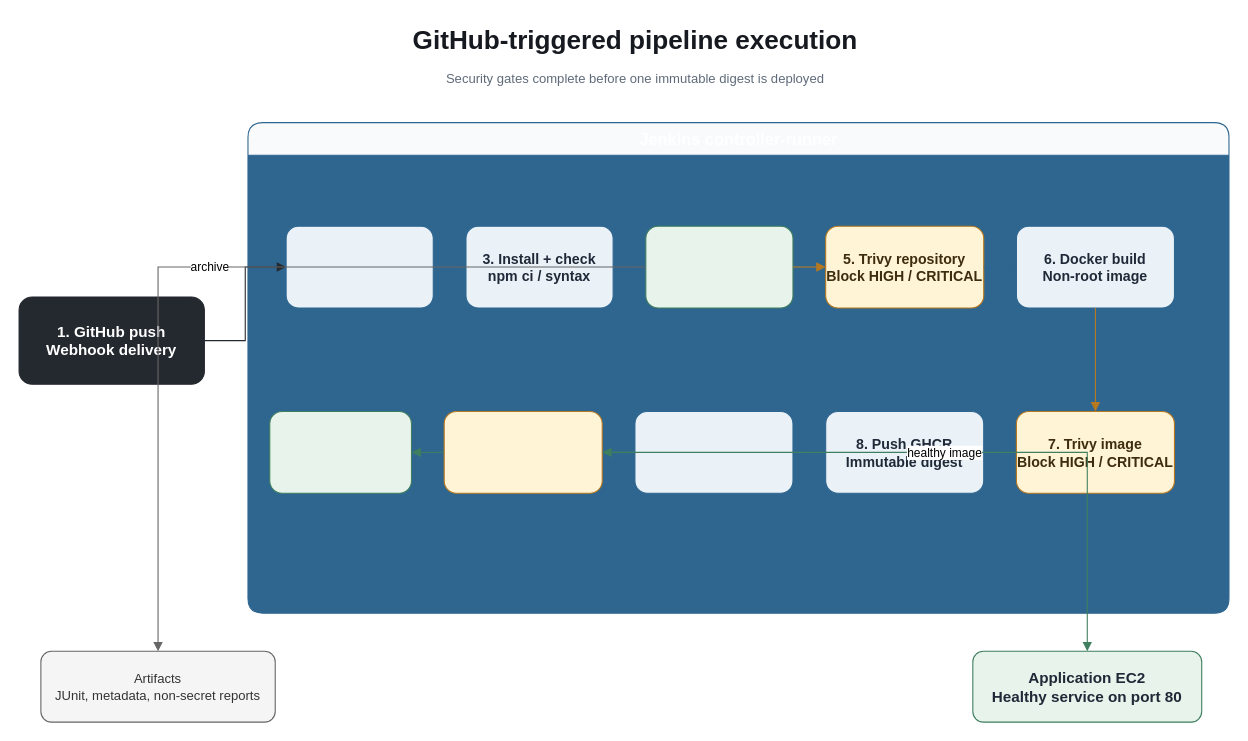
Image size: 1248x741. Some labels were removed from this diagram. Here are the shapes that lost their labels. From the top down, the centre of each, then its label:
point 359,266: 2. Checkout Pinned commit
point 719,266: 4. Test Jest + JUnit
point 340,451: 11. Runtime cleanup Retain rollback tag
point 522,451: 10. Candidate health Rollback on failure
point 713,451: 9. SSH deploy Verified host key
